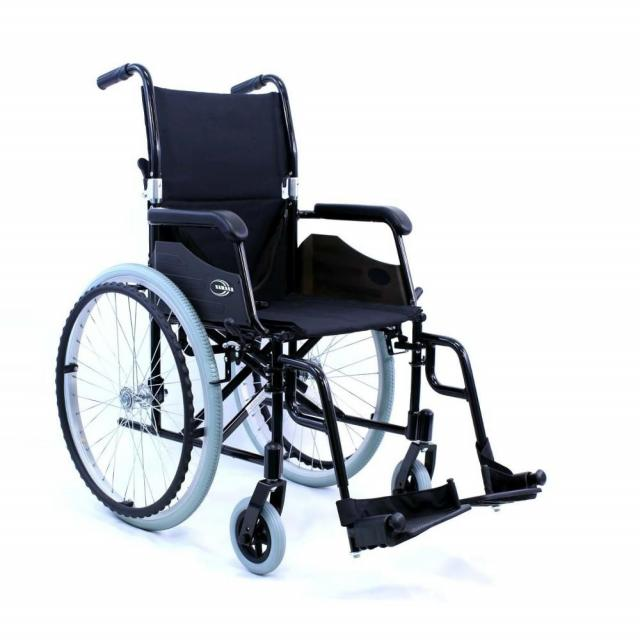wheelchair: (43, 41, 568, 594)
